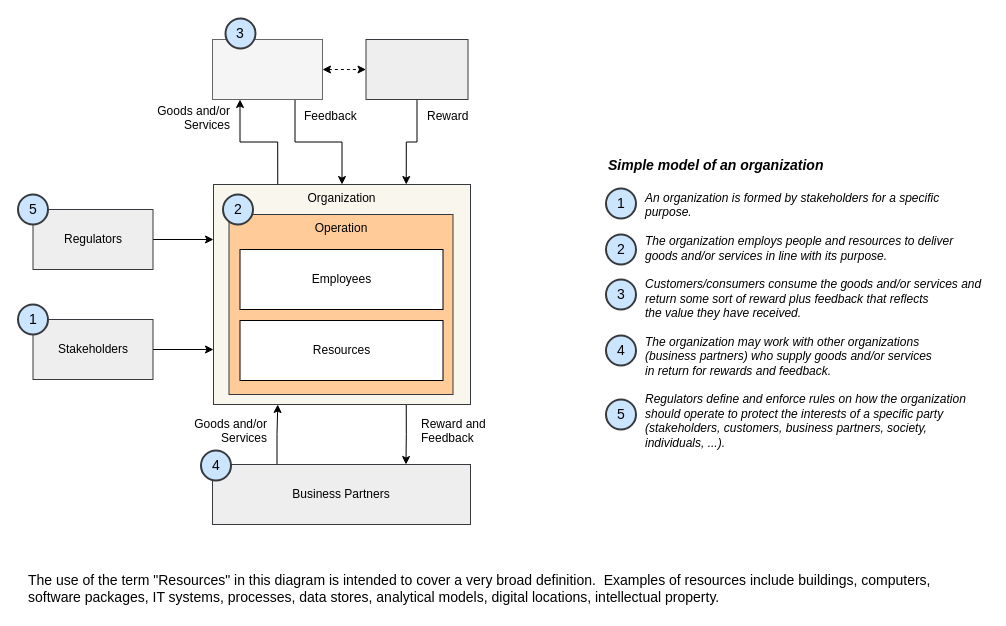
Some shapes in this 1006 by 626 pixel diagram are drawn without their labels. Here are the shapes that lost their labels. From the top down, the centre of each, then its label:
pixel 267 69: Consumers
pixel 416 69: Customers
